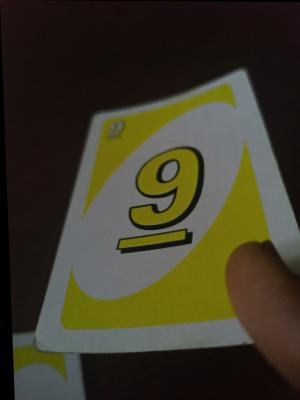num_9: (97, 146, 219, 261)
yellow: (99, 114, 209, 144)
